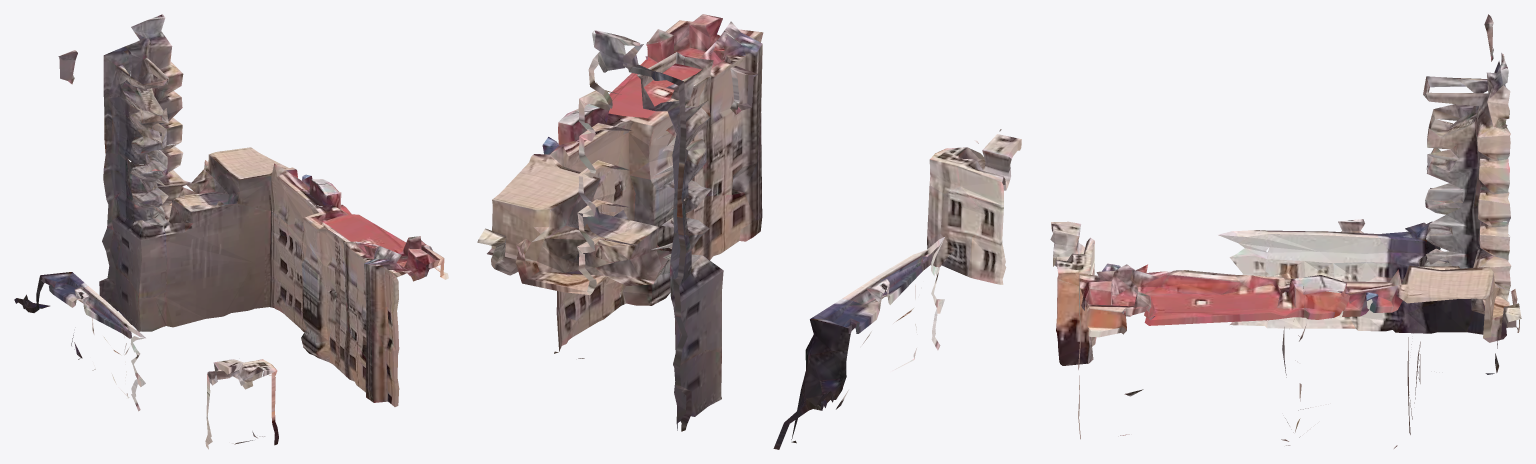
The picture shows the model from 3 angles, left to right: view 1: azimuth 30°, elevation 25°; view 2: azimuth 150°, elevation 25°; view 3: azimuth 270°, elevation 25°; orthographic projection. The views are drawn at different scales.
Visible parts, largest first — view 1: Mesh_0; view 2: Mesh_0; view 3: Mesh_0.
Part boxes in pixels (bbox=[...]): Mesh_0: bbox=[14, 14, 448, 449]; Mesh_0: bbox=[477, 14, 1021, 449]; Mesh_0: bbox=[1050, 14, 1521, 448].
Size of the model in its own units: 33.29 by 33.02 by 41.35.
Materials: 2 (2 with a texture image).
